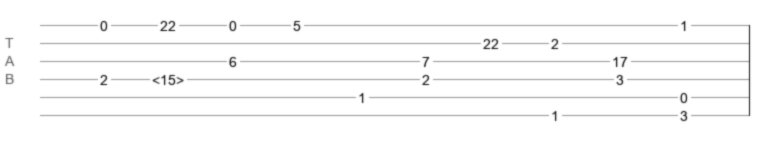0: (100, 18, 108, 28), (229, 18, 237, 28), (680, 90, 688, 100)
1: (358, 90, 366, 100), (551, 108, 559, 118), (680, 18, 688, 28)
17: (612, 54, 628, 64)
2: (100, 72, 108, 82), (422, 72, 430, 82), (551, 36, 559, 46)
22: (160, 18, 176, 28), (483, 36, 499, 46)
3: (616, 72, 624, 82), (680, 108, 688, 118)
5: (293, 18, 301, 28)
6: (229, 54, 237, 64)
7: (422, 54, 430, 64)
harmonic: (152, 72, 184, 82)
